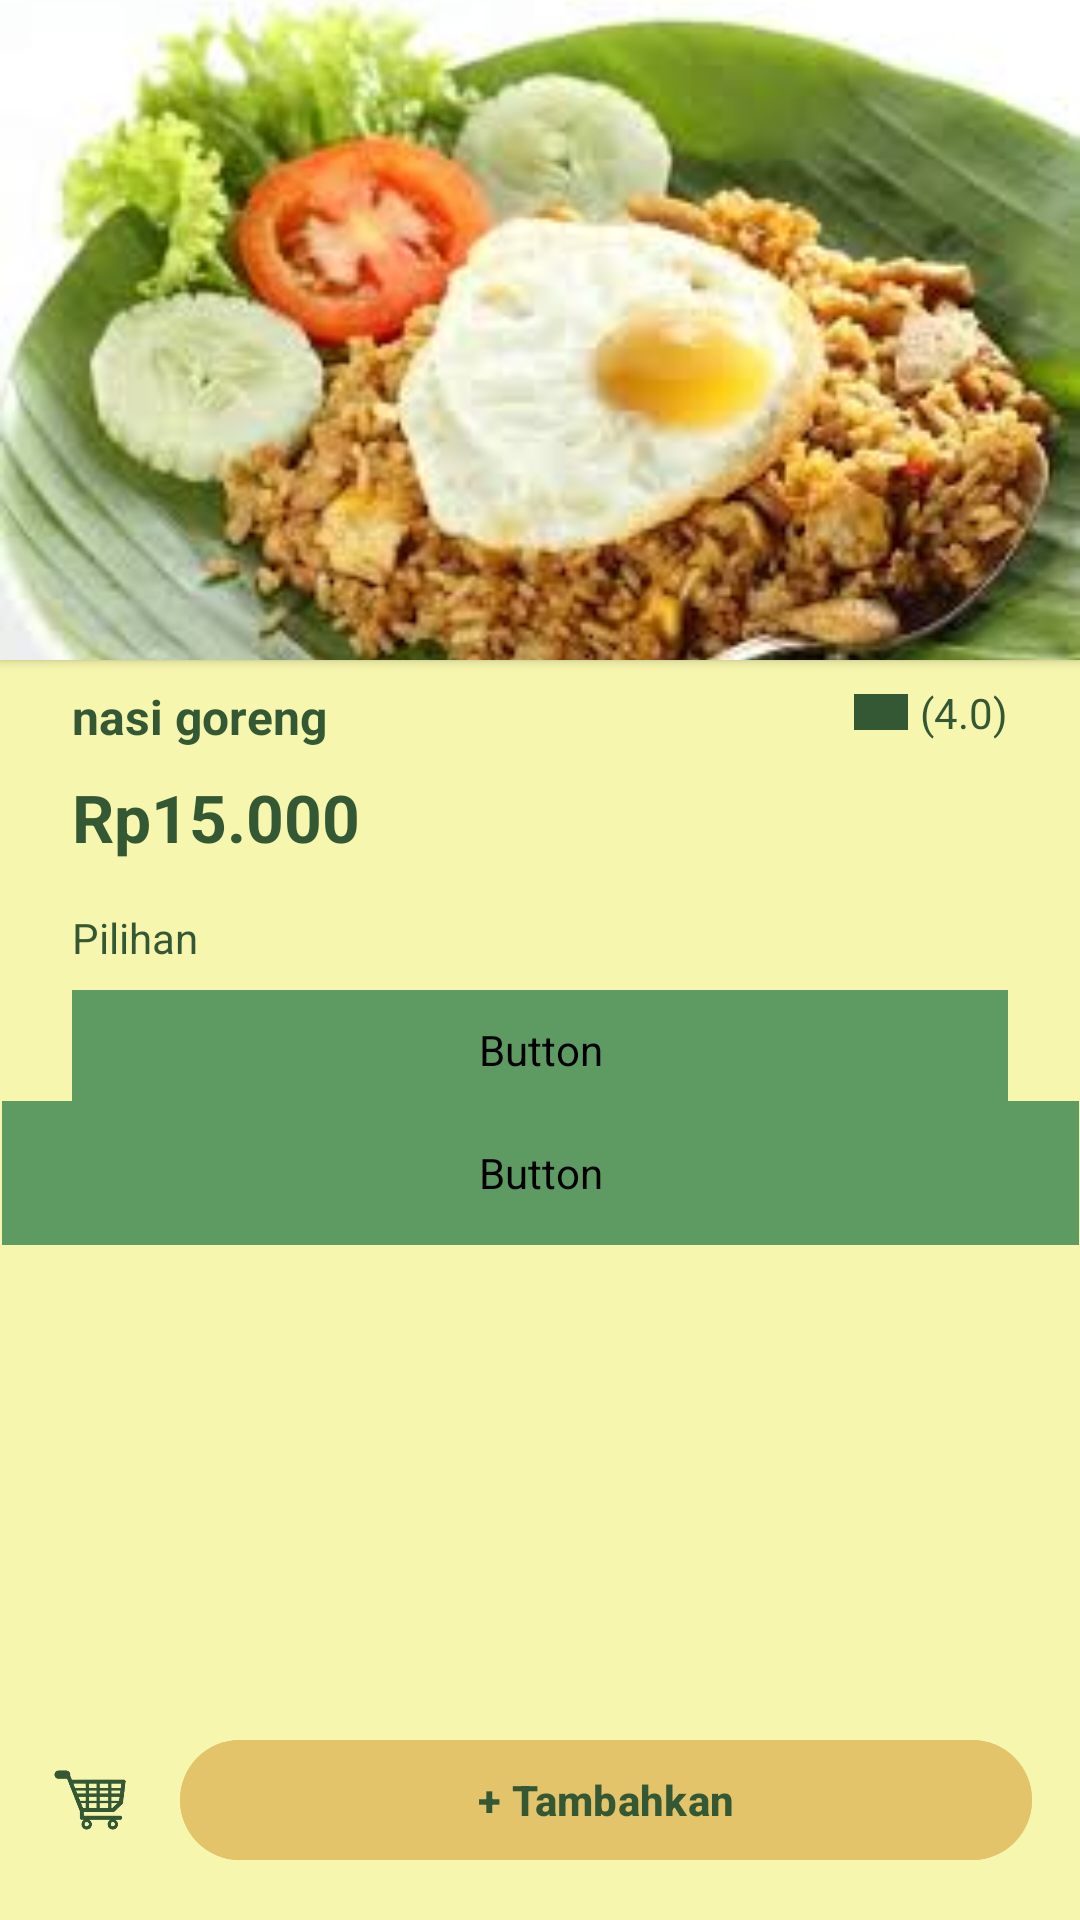

Named icons in this screenshot (1080w x 1920h) and their centers, (x=x, y=y):
Keranjang: (x=90, y=1800)
